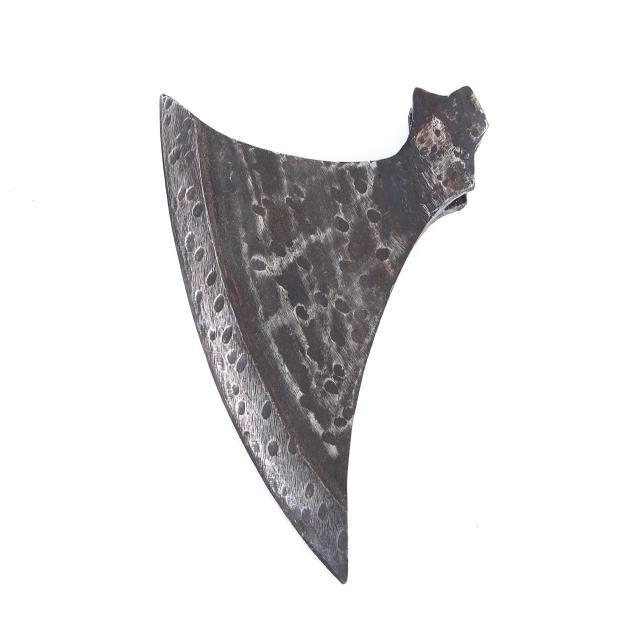Axe: (161, 88, 486, 582)
